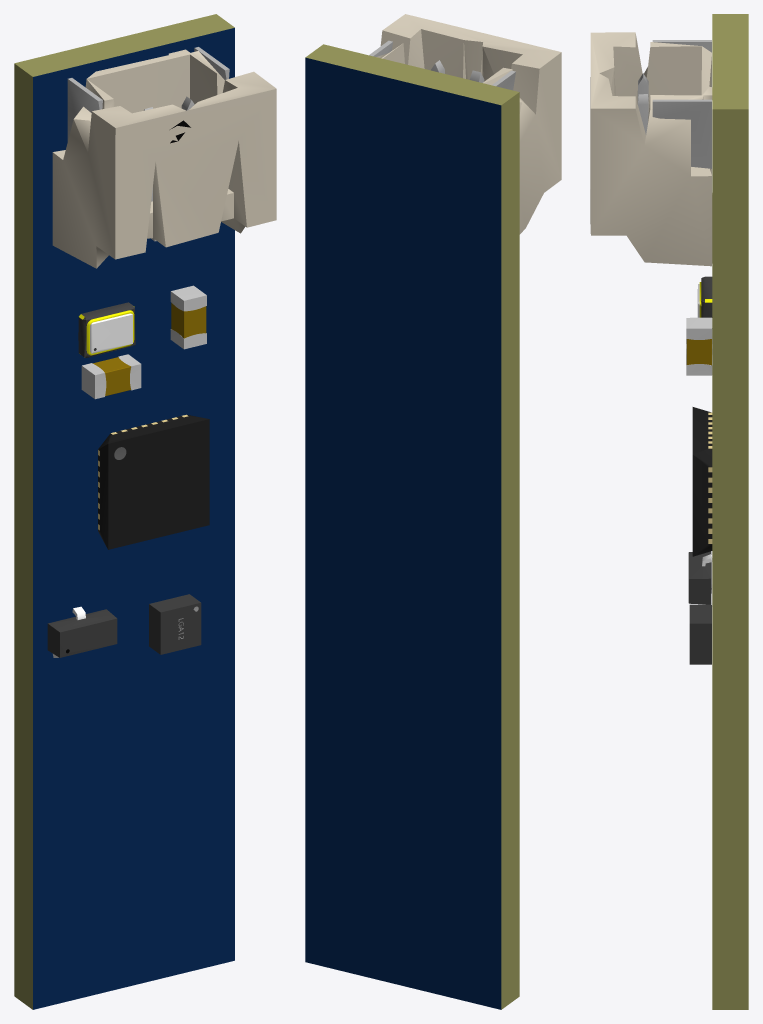
Rendered from pcb.obj.
3 views of the same model, side by side, from view 1: azimuth 30°, elevation 25°; view 2: azimuth 150°, elevation 25°; view 3: azimuth 270°, elevation 25° (orthographic). The views are drawn at different scales.
Bounding box in the file's own units: 9.97 × 43.97 × 7.
